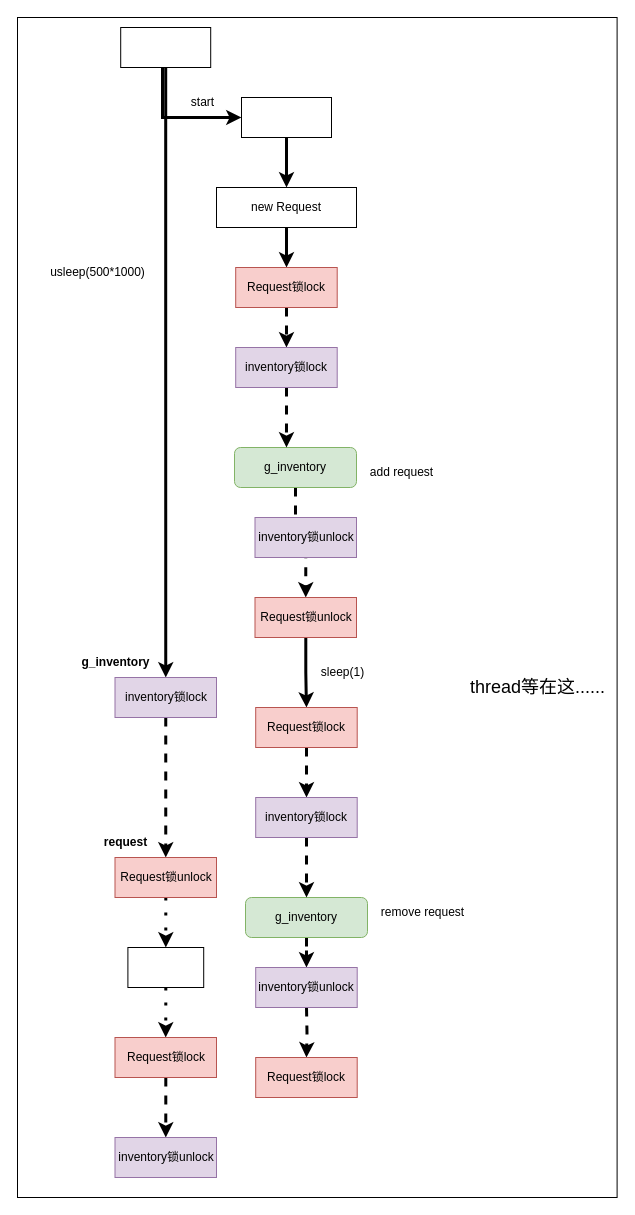
This 635x1215 diagram has some shape labels left out. The centre of each missing label's shape, as x and y in pixels:
"main" belongs at point 165,47.
"print" belongs at point 165,967.
"thread" belongs at point 286,117.
